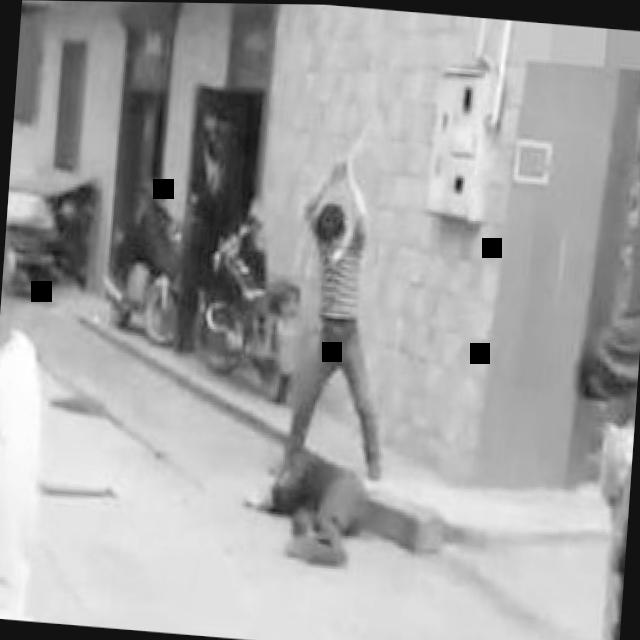Fall-Detected: (226, 429, 382, 571)
